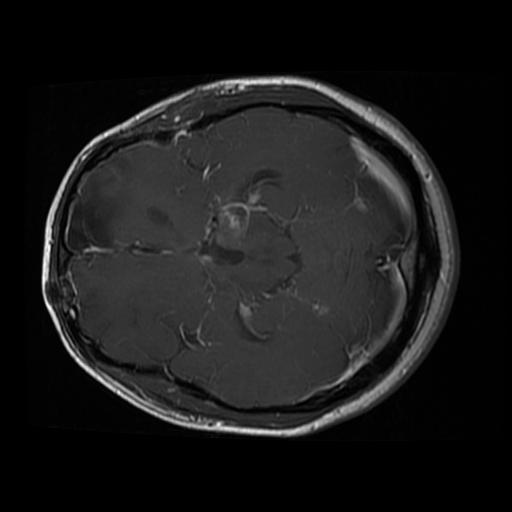glioma: (66, 153, 131, 249)
